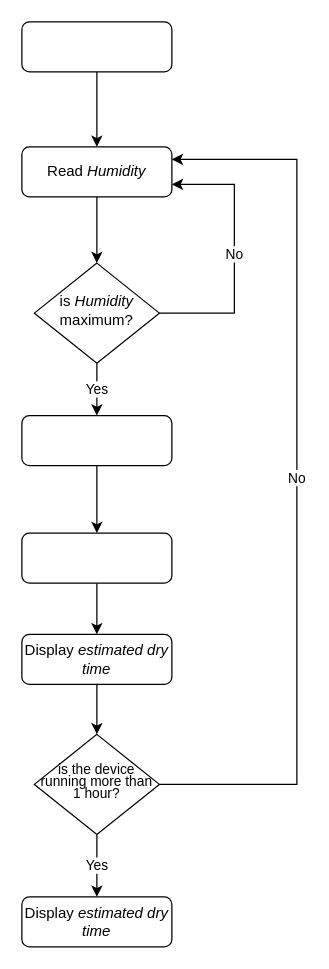
The diagram is 329 pixels wide and 969 high, and some of its shapes have lost their labels. Each missing label, with the centre of its shape:
"Start ClothSense" goes at [96,46].
"Update estimated dry time" goes at [96,557].
"Update Maximum Humidity" goes at [96,440].
